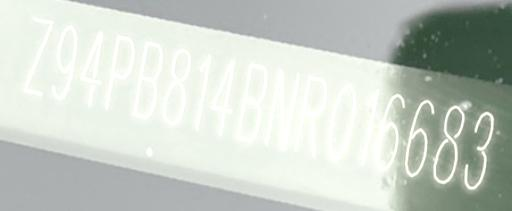letter: (292, 74, 328, 157), (430, 104, 466, 185), (264, 68, 300, 149), (22, 15, 56, 96), (462, 109, 496, 189), (103, 34, 137, 111), (326, 81, 358, 162), (132, 40, 164, 121), (236, 62, 268, 143), (374, 91, 406, 170), (162, 47, 192, 128), (404, 97, 434, 176), (76, 28, 104, 109), (50, 23, 78, 100), (210, 57, 236, 138), (359, 87, 381, 166), (194, 52, 212, 133)
